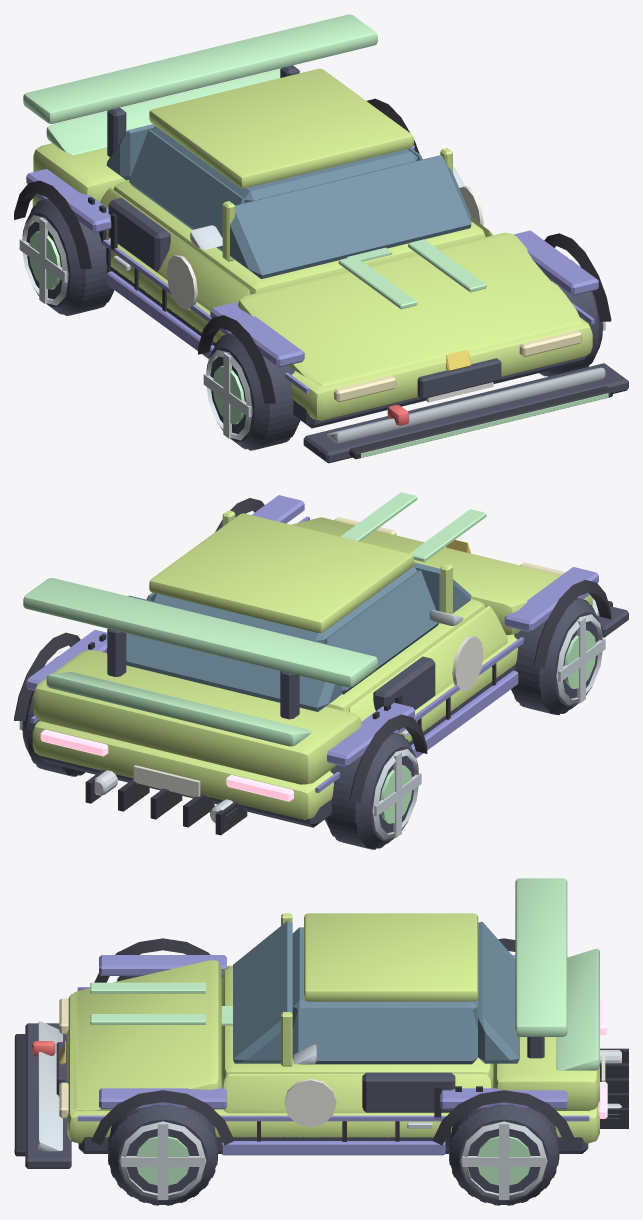
Rendered from pitlane_phantom.fbx.
3 renders of one model, top to bottom at view 1: azimuth 30°, elevation 25°; view 2: azimuth 150°, elevation 25°; view 3: azimuth 270°, elevation 25°, orthographic. The views are drawn at different scales.
Visible parts, largest first — view 1: Body, Glass, Accent3, Trim2, Accent, Trim, Wheel_FR, Metal, Wheel_RR, Accent4, Light, Accent2 (+3 smaller); view 2: Body, Accent3, Glass, Accent, Trim, Trim2, Metal, Wheel_RR, Wheel_FR, Light, Accent2, Light3 (+2 smaller); view 3: Body, Glass, Accent3, Accent, Trim, Trim2, Metal, Wheel_RL, Wheel_FL, Light, Accent4, Metal2 (+3 smaller).
Part boxes in pixels (x1,y1,x2,y2): Body: (32, 68, 592, 420); Glass: (106, 124, 471, 278); Accent3: (23, 14, 377, 155); Trim2: (107, 65, 628, 463); Accent: (26, 145, 598, 393); Trim: (14, 98, 612, 459); Wheel_FR: (206, 333, 300, 450); Metal: (19, 215, 605, 440); Wheel_RR: (22, 198, 114, 315); Accent4: (190, 167, 605, 443); Light: (338, 239, 608, 457); Accent2: (166, 185, 493, 402); Body: (32, 510, 592, 819); Accent3: (23, 578, 377, 746); Glass: (106, 518, 471, 711); Accent: (26, 495, 598, 792); Trim: (14, 498, 612, 835); Trim2: (38, 606, 628, 827); Metal: (19, 614, 605, 839); Wheel_RR: (325, 732, 418, 849); Wheel_FR: (511, 598, 602, 714); Light: (340, 492, 486, 561); Accent2: (133, 636, 483, 797); Light3: (40, 729, 293, 801); Body: (67, 913, 599, 1143); Glass: (233, 921, 519, 1064); Accent3: (292, 878, 599, 1070); Accent: (77, 955, 589, 1155); Trim: (15, 938, 628, 1156); Trim2: (25, 1023, 588, 1168); Metal: (119, 1050, 621, 1199); Wheel_RL: (449, 1104, 559, 1205); Wheel_FL: (108, 1104, 217, 1205); Light: (14, 982, 232, 1152); Accent4: (38, 1021, 316, 1151); Metal2: (136, 1136, 530, 1185).
Size of the model in its own units: 3.3 by 1.72 by 5.31.
